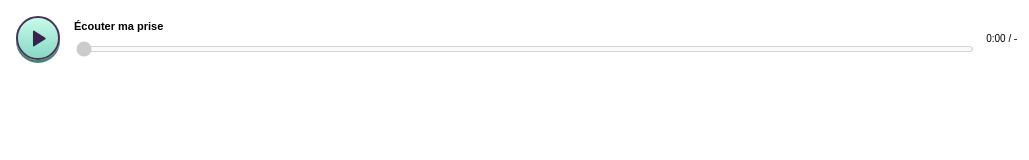
Scenario: lecteur de prise › un refus de lecture laisse un bouton utilisable et une erreur lisible
The image size is (1029, 160).
Click the button named "Écouter ma prise" at x=38, y=38, box [16,16,60,60]
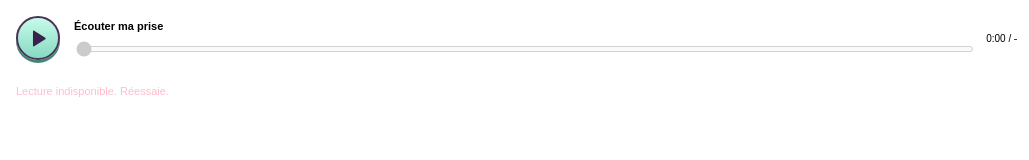
Expected: the message shows "Lecture indisponible", [16,85,169,97]
